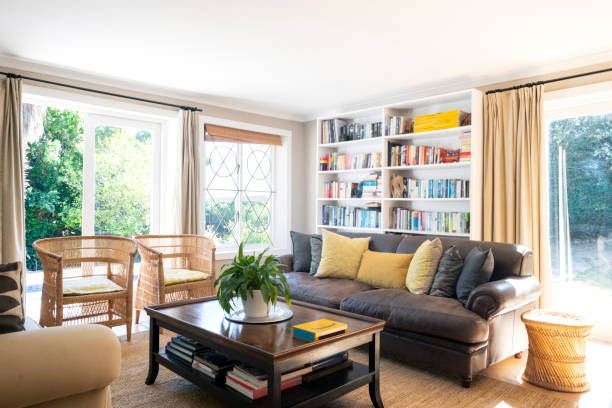chair: (31, 233, 135, 344), (133, 231, 218, 333)
small plant: (214, 240, 293, 321)
sofa: (262, 227, 542, 391)
table: (143, 289, 388, 407)
